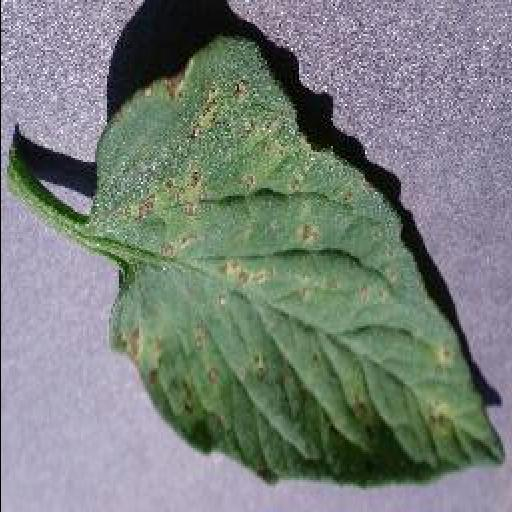disease_tomato: (90, 44, 506, 490)
